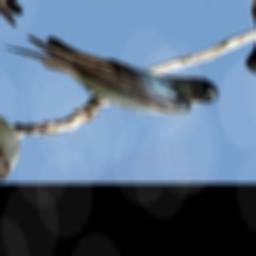Swallow: (0, 1, 229, 143)
